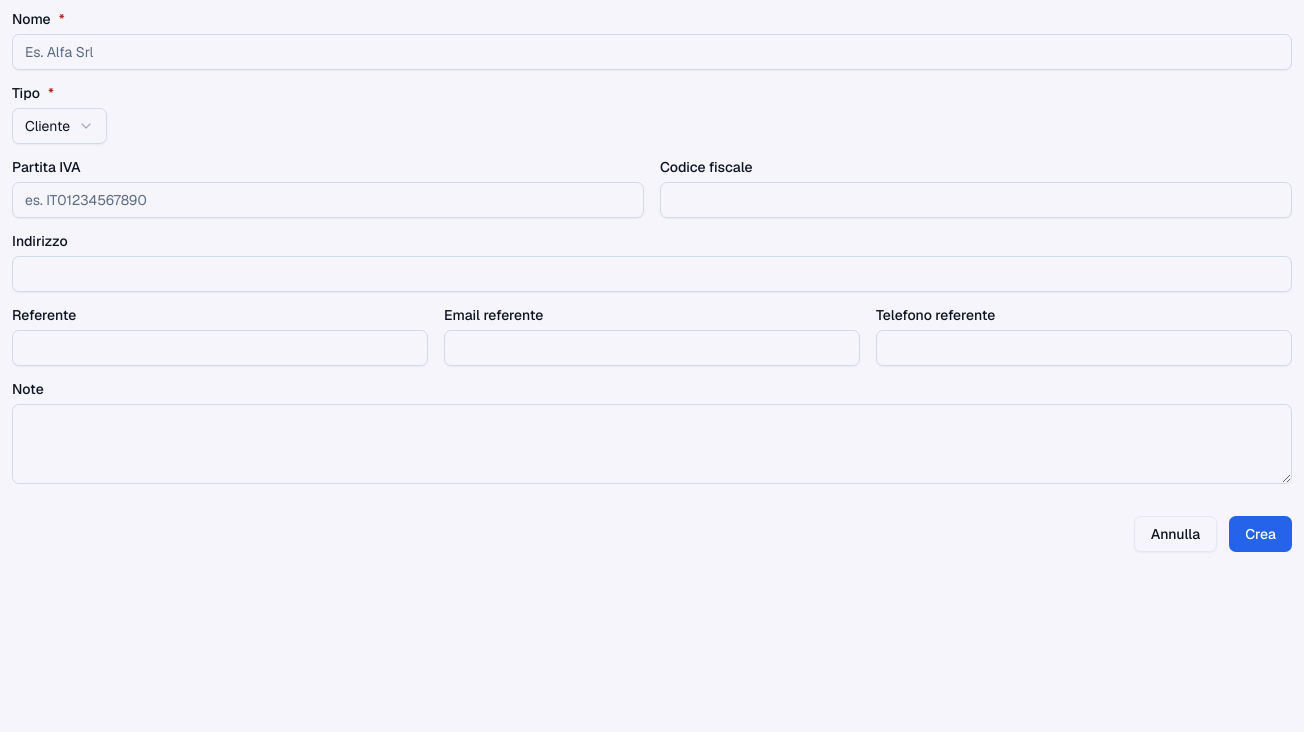
Test: CounterpartyForm › shows validation errors when submitting empty form
Click the button "Crea": (1261, 534) [1229,516,1292,552]
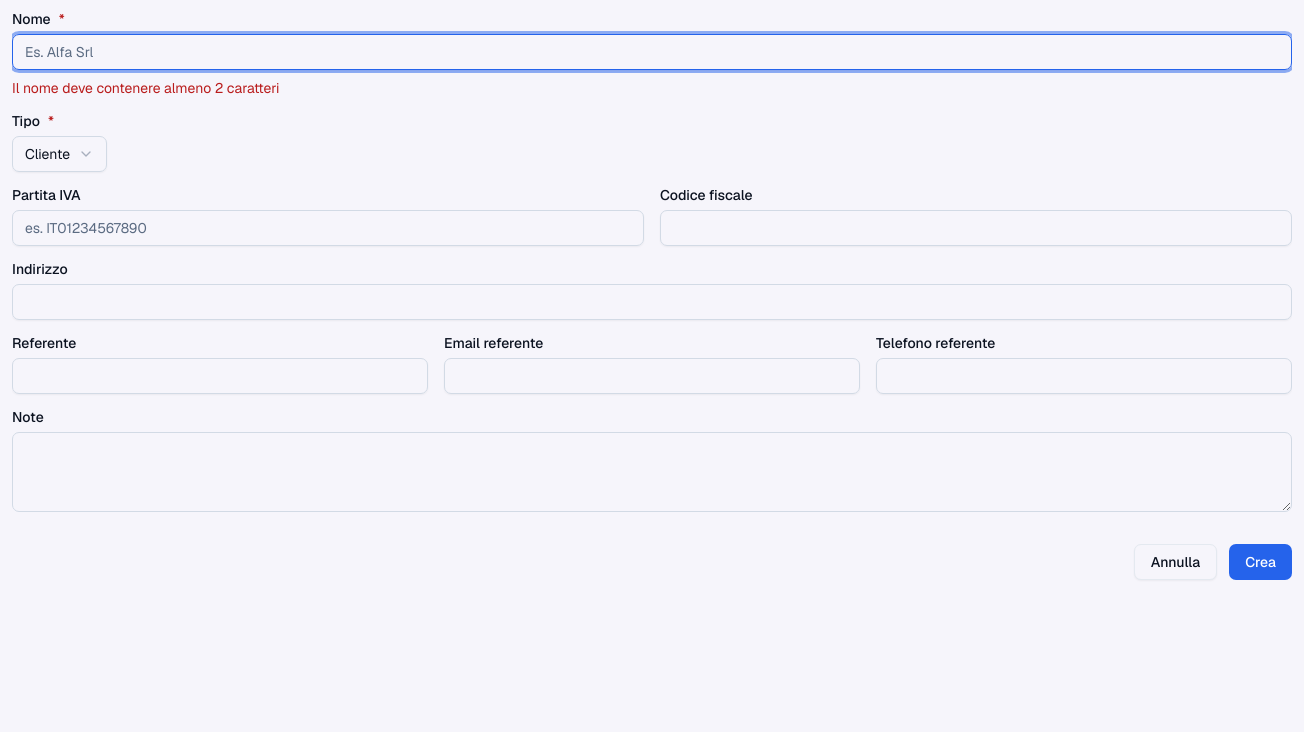
Check: the text "Il nome deve contenere almeno 2 caratteri" is shown, box [12,79,280,97]
